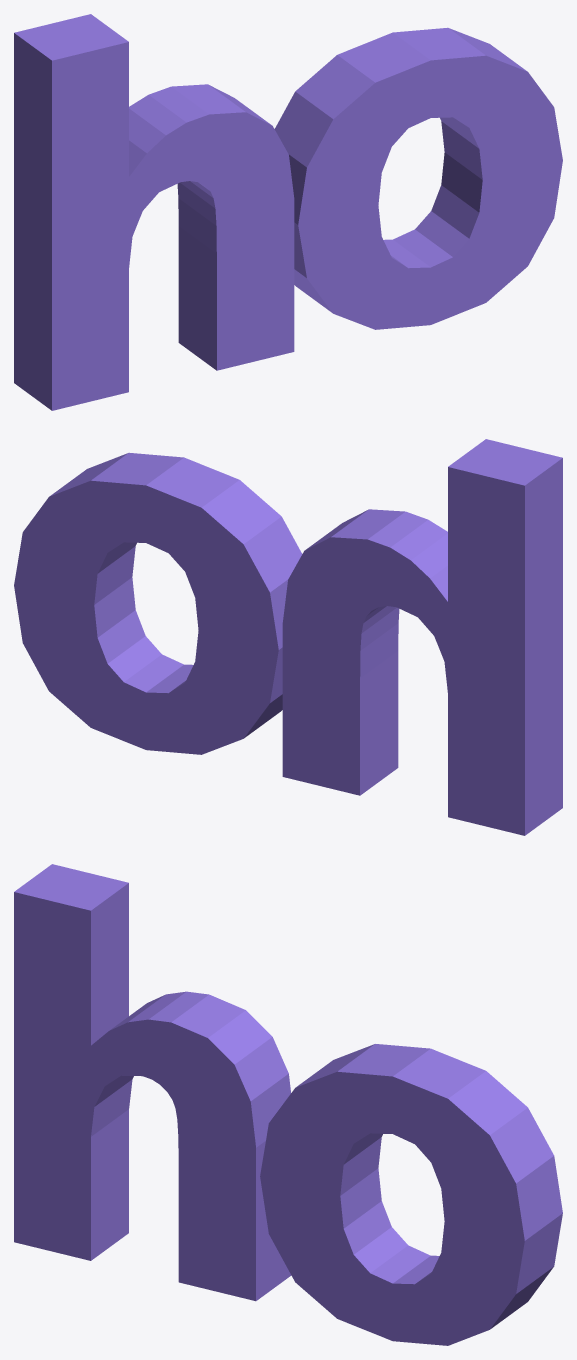
File: suku_kecil_ho.glb
3 views of the same model, one above another, from view 1: azimuth 30°, elevation 25°; view 2: azimuth 150°, elevation 25°; view 3: azimuth 330°, elevation 25° (orthographic).
Parts seen in each view (by area): view 1: geometry_0; view 2: geometry_0; view 3: geometry_0.
Part boxes in pixels (bbox=[...]): geometry_0: bbox=[14, 14, 562, 410]; geometry_0: bbox=[14, 439, 562, 835]; geometry_0: bbox=[14, 864, 562, 1345].
Size of the model in its own units: 11.6 by 7.74 by 1.5.
